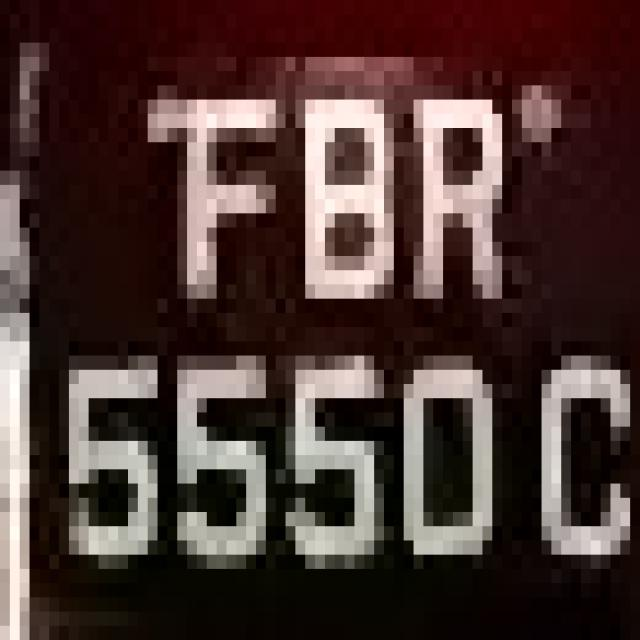0: (404, 313, 512, 583)
5: (168, 356, 286, 598), (69, 327, 157, 583), (286, 341, 384, 569)
B: (286, 71, 414, 370)
C: (522, 313, 640, 583)
F: (157, 57, 286, 327)
R: (414, 71, 552, 327)
